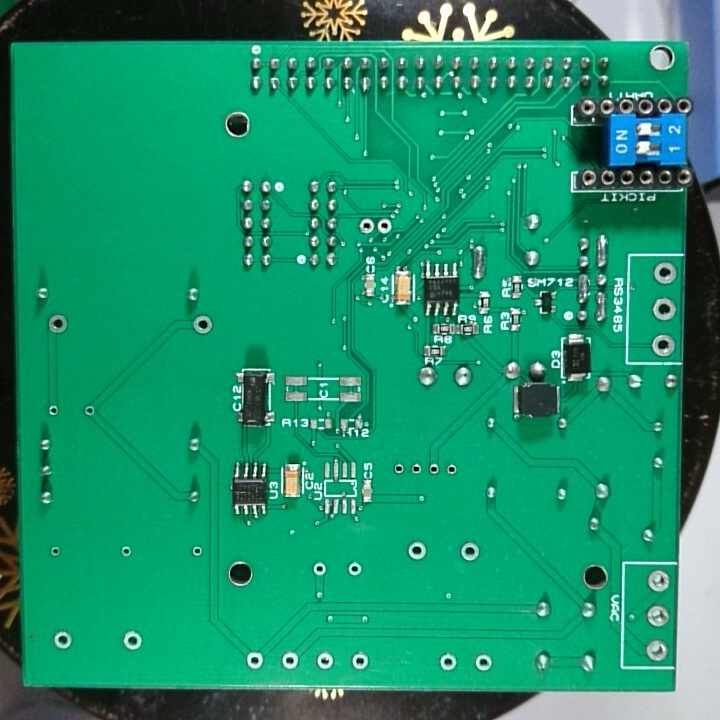F: (650, 258, 679, 288), (650, 295, 678, 325), (648, 332, 677, 359), (644, 567, 672, 594), (645, 603, 672, 631), (44, 312, 71, 337), (458, 538, 482, 566), (643, 638, 669, 663), (190, 313, 215, 337), (405, 538, 428, 564), (243, 649, 267, 673), (121, 628, 144, 652), (51, 628, 74, 652), (348, 649, 371, 672), (314, 649, 336, 673), (436, 650, 459, 672), (357, 216, 378, 239), (280, 649, 301, 672), (473, 652, 494, 675), (374, 215, 395, 237), (345, 559, 365, 580), (406, 460, 425, 480), (81, 402, 99, 421), (310, 560, 329, 578), (117, 542, 134, 562), (424, 461, 442, 479), (442, 461, 459, 480), (188, 542, 204, 562), (45, 402, 61, 420), (48, 543, 63, 561), (391, 460, 406, 478)
P: (468, 242, 488, 283), (574, 270, 593, 306), (594, 232, 611, 270), (594, 289, 609, 326)
